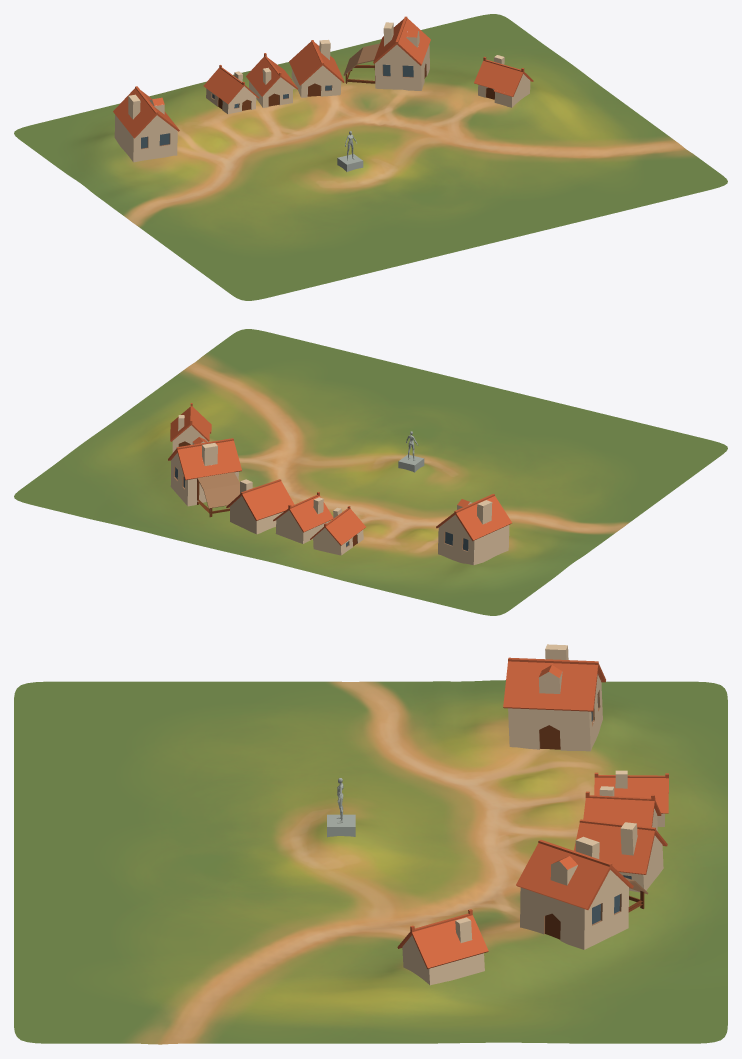
Rendered from medieval town(dev).glb.
The picture shows the model from 3 angles, top to bottom: view 1: azimuth 30°, elevation 25°; view 2: azimuth 150°, elevation 25°; view 3: azimuth 270°, elevation 25°; orthographic projection. The views are drawn at different scales.
Visible parts, largest first — view 1: ground, house01.002, house01, house02, house03.001, house03, house04, stable; view 2: ground, house01.002, house01, house02, house03, house04, stable, house03.001; view 3: ground, house01, house01.002, house03.001, house02, house03, house04.
Boxes of the visible parts, x1=… form: ground: x1=14, y1=14, x2=727, y2=300; house01.002: x1=113, y1=86, x2=179, y2=162; house01: x1=373, y1=16, x2=430, y2=90; house02: x1=289, y1=39, x2=344, y2=97; house03.001: x1=474, y1=55, x2=533, y2=107; house03: x1=246, y1=53, x2=298, y2=107; house04: x1=203, y1=65, x2=259, y2=114; stable: x1=343, y1=43, x2=379, y2=83; ground: x1=14, y1=329, x2=727, y2=615; house01.002: x1=436, y1=494, x2=511, y2=565; house01: x1=168, y1=437, x2=241, y2=506; house02: x1=226, y1=479, x2=294, y2=534; house03: x1=273, y1=492, x2=333, y2=543; house04: x1=310, y1=506, x2=365, y2=555; stable: x1=197, y1=472, x2=239, y2=517; house03.001: x1=170, y1=403, x2=211, y2=453; ground: x1=14, y1=680, x2=727, y2=1044; house01: x1=516, y1=836, x2=633, y2=949; house01.002: x1=503, y1=644, x2=605, y2=751; house03.001: x1=397, y1=909, x2=488, y2=985; house02: x1=574, y1=819, x2=667, y2=892; house03: x1=583, y1=786, x2=661, y2=831; house04: x1=594, y1=770, x2=668, y2=826.
Size of the model in its own units: 120 by 14.45 by 100.
Materials: 3 (3 with a texture image).
